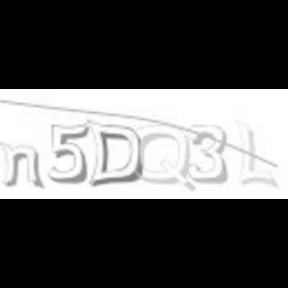3: (186, 122, 230, 186)
5: (49, 119, 89, 187)
D: (88, 118, 142, 190)
L: (236, 116, 280, 190)
Q: (130, 122, 196, 191)
n: (0, 141, 46, 191)
